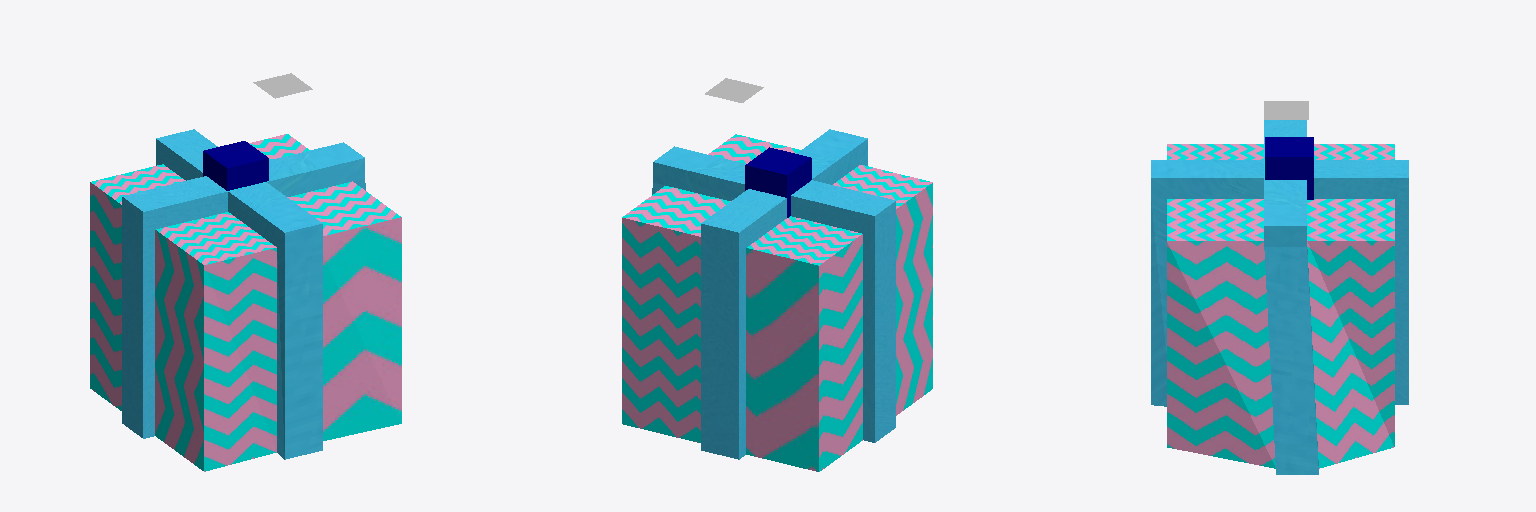
3 views of the same model, side by side, from view 1: azimuth 30°, elevation 25°; view 2: azimuth 150°, elevation 25°; view 3: azimuth 270°, elevation 25° (orthographic).
Visible parts, largest first — view 1: Cube_REGALO, Cube.001_Cube, Plane.001; view 2: Cube_REGALO, Cube.001_Cube, Plane.001; view 3: Cube_REGALO, Cube.001_Cube, Plane.001.
Part boxes in pixels (x1,y1,x2,y2): Cube_REGALO: (90,129,401,471); Cube.001_Cube: (203,141,268,190); Plane.001: (253,73,312,98); Cube_REGALO: (622,129,932,471); Cube.001_Cube: (745,147,811,217); Plane.001: (705,78,763,102); Cube_REGALO: (1151,120,1408,474); Cube.001_Cube: (1265,137,1313,199); Plane.001: (1264,101,1308,119).
Size of the model in its own units: 2.44 by 3.1 by 2.26.
Materials: 6 (2 with a texture image).